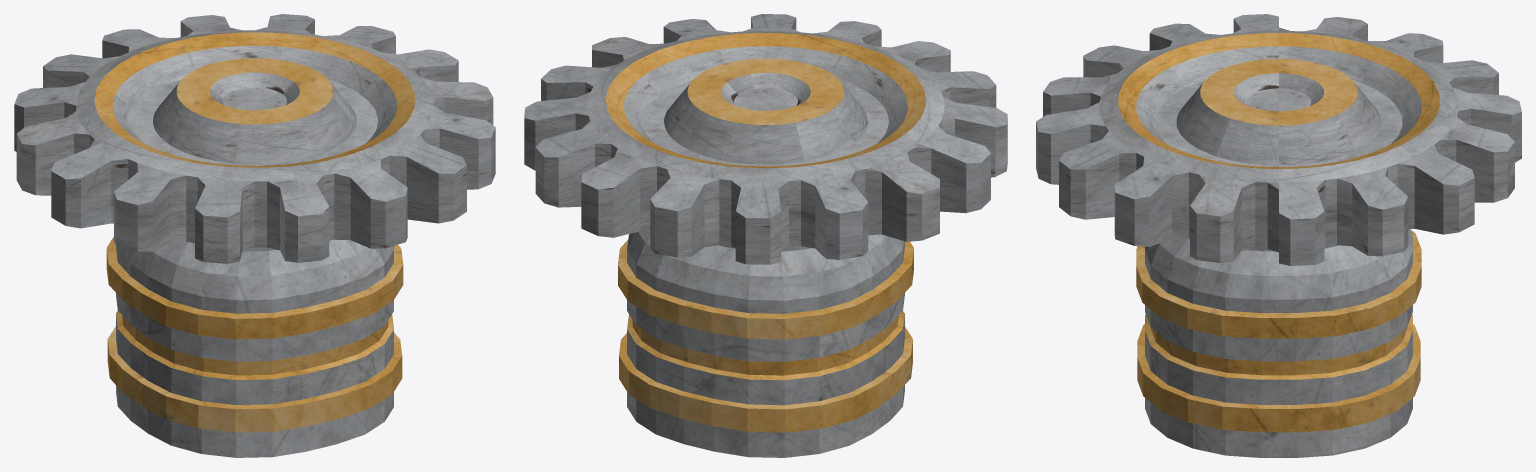
File: blence (2).fbx
3 views of the same model, side by side, from view 1: azimuth 30°, elevation 25°; view 2: azimuth 150°, elevation 25°; view 3: azimuth 270°, elevation 25° (orthographic).
Parts seen in each view (by area): view 1: Cylinder, Cube, Cylinder.001; view 2: Cylinder.001, Cube, Cylinder; view 3: Cube, Cylinder.001, Cylinder.
Boxes of the visible parts, bbox=[...] form: Cylinder: bbox=[51, 66, 495, 263]; Cube: bbox=[106, 236, 403, 457]; Cylinder.001: bbox=[14, 14, 458, 195]; Cylinder.001: bbox=[524, 65, 939, 264]; Cube: bbox=[618, 231, 913, 457]; Cylinder: bbox=[592, 14, 1007, 213]; Cube: bbox=[1136, 229, 1421, 457]; Cylinder.001: bbox=[1279, 17, 1521, 265]; Cylinder: bbox=[1036, 14, 1278, 262].
Bounding box in the file's own units: 269 × 189 × 269.
6 materials, 6 textured.
